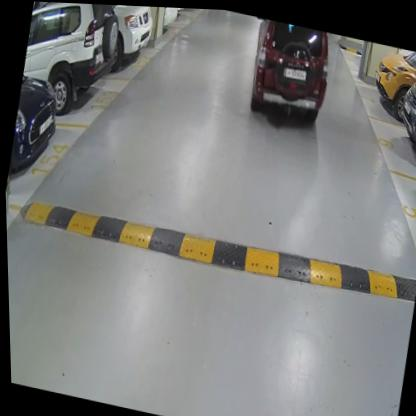np: (283, 63, 306, 78)
